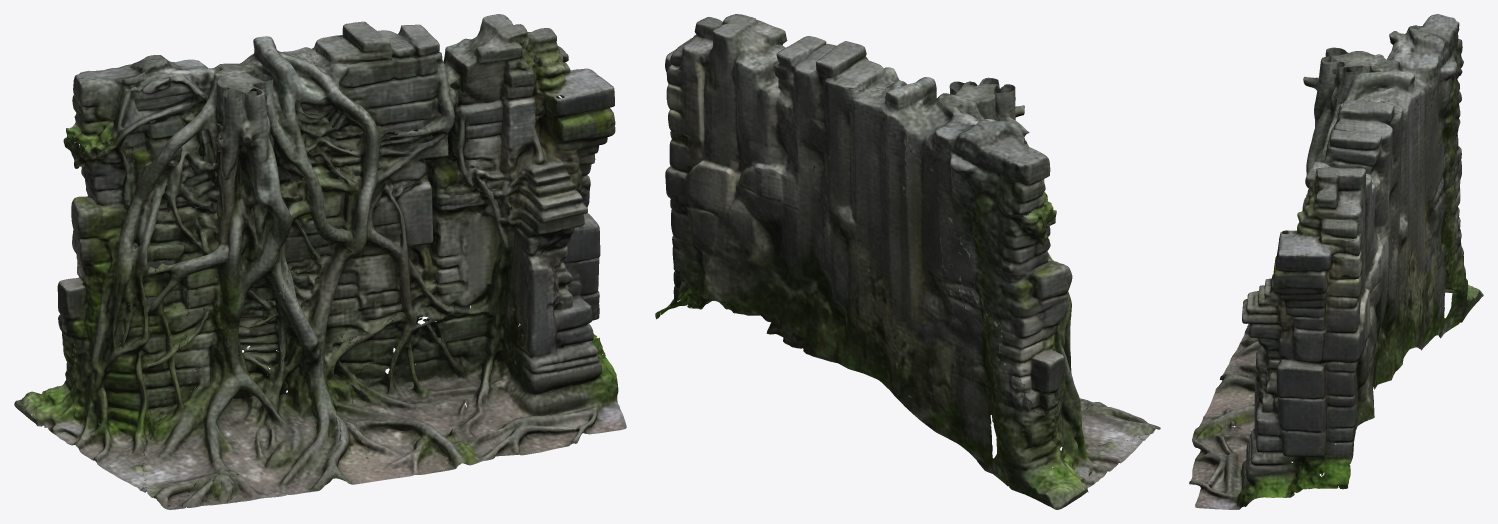
File: shrine_back_cliff.raw.glb
3 renders of one model, left to right at view 1: azimuth 30°, elevation 25°; view 2: azimuth 150°, elevation 25°; view 3: azimuth 270°, elevation 25°, orthographic. The views are drawn at different scales.
Visible parts, largest first — view 1: world; view 2: world; view 3: world.
Part boxes in pixels (x1,y1,x2,y2): world: (14,14,626,509); world: (655,14,1160,509); world: (1189,14,1483,509).
Size of the model in its own units: 0.9984 by 0.714 by 0.5748.
Materials: 1 (1 with a texture image).
